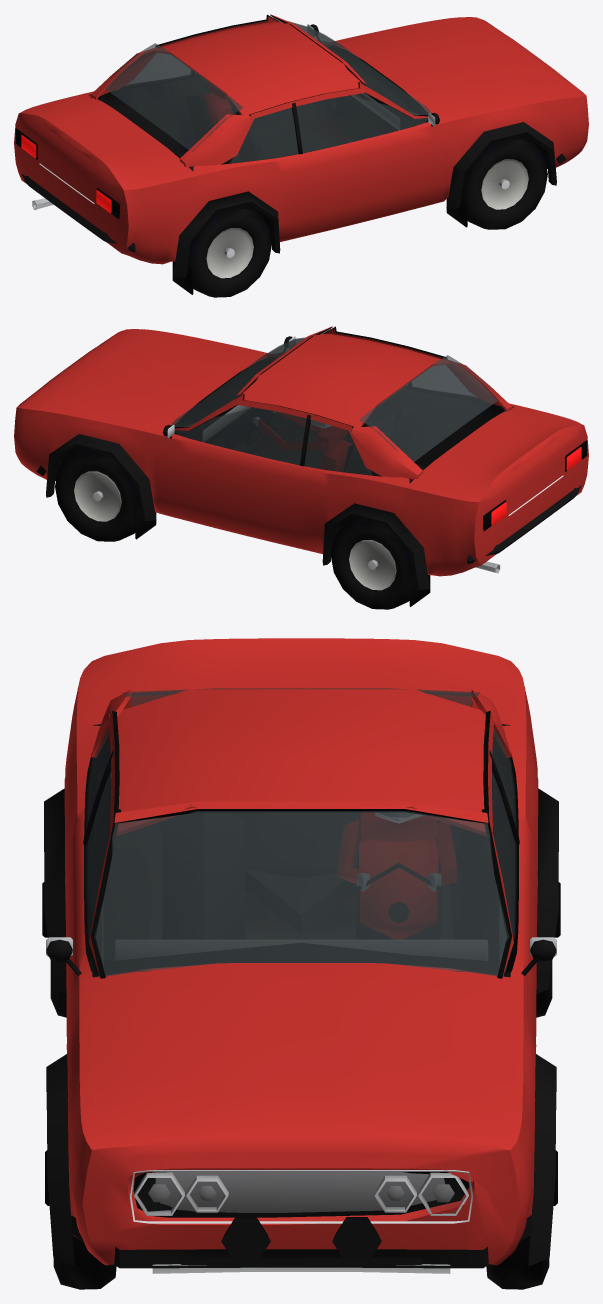
Rendered from kz_kestrel_race.glb.
3 views of the same model, one above another, from view 1: azimuth 30°, elevation 25°; view 2: azimuth 150°, elevation 25°; view 3: azimuth 270°, elevation 25° (orthographic). The views are drawn at different scales.
Visible parts, largest first — view 1: body, glass, window_R, tyre_FR, tyre_RR, interior, rim_FR, rim_RR, driver, taillight_lens; view 2: body, glass, window_L, tyre_FL, tyre_RL, interior, driver, rim_FL, rim_RL, taillight_lens; view 3: body, glass, interior, driver, window_L, window_R, tyre_FL, tyre_FR, steering_wheel.
Boxes of the visible parts, left/top/right/bottom form: body: left=14, top=14, right=588, bottom=294; glass: left=105, top=16, right=431, bottom=163; window_R: left=296, top=95, right=428, bottom=153; tyre_FR: left=461, top=135, right=547, bottom=229; tyre_RR: left=188, top=205, right=272, bottom=297; interior: left=185, top=63, right=425, bottom=163; rim_FR: left=481, top=159, right=528, bottom=209; rim_RR: left=206, top=228, right=253, bottom=278; driver: left=202, top=81, right=232, bottom=127; taillight_lens: left=21, top=135, right=111, bottom=213; body: left=14, top=326, right=588, bottom=606; glass: left=171, top=329, right=499, bottom=475; window_L: left=174, top=407, right=306, bottom=465; tyre_FL: left=55, top=447, right=141, bottom=541; tyre_RL: left=330, top=517, right=414, bottom=609; interior: left=177, top=375, right=417, bottom=475; driver: left=253, top=411, right=351, bottom=471; rim_FL: left=74, top=471, right=121, bottom=521; rim_RL: left=349, top=540, right=396, bottom=590; taillight_lens: left=491, top=447, right=581, bottom=525; body: left=42, top=638, right=560, bottom=1273; glass: left=86, top=688, right=516, bottom=1212; interior: left=103, top=812, right=499, bottom=974; driver: left=336, top=812, right=456, bottom=939; window_L: left=492, top=771, right=516, bottom=971; window_R: left=86, top=771, right=110, bottom=971; tyre_FL: left=486, top=1151, right=549, bottom=1289; tyre_FR: left=53, top=1153, right=116, bottom=1289; steering_wheel: left=356, top=863, right=441, bottom=939.
Size of the model in its own units: 4.15 by 1.46 by 1.92.
